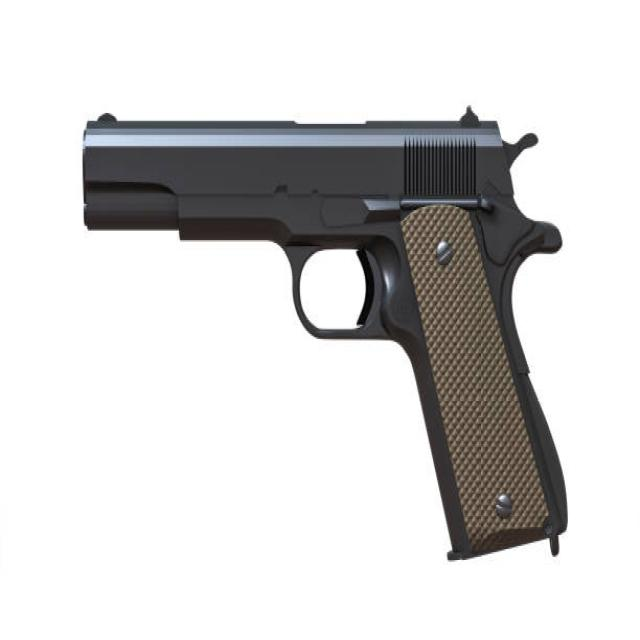pistol: (72, 101, 574, 576)
